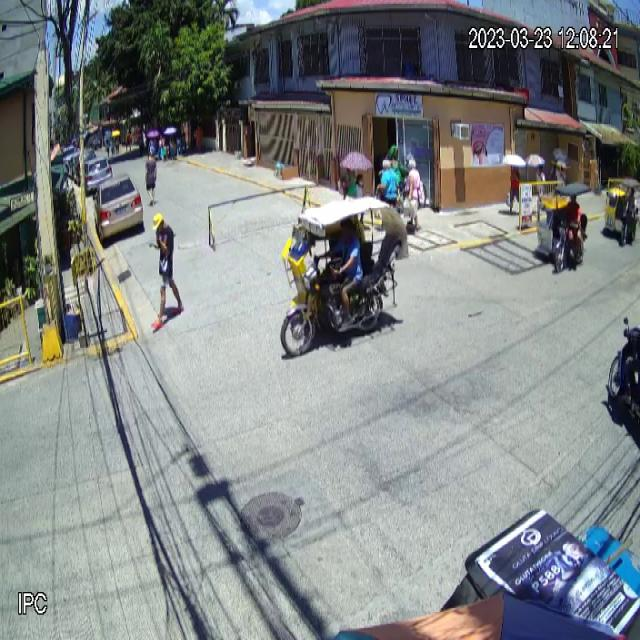Tricycle: (280, 193, 409, 357)
